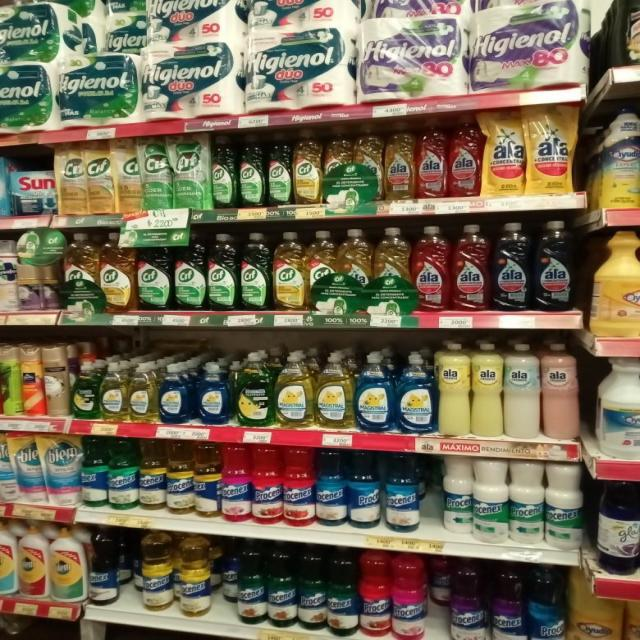ala_conc_amarillo: (373, 226, 411, 316), (384, 120, 416, 201), (354, 121, 383, 202)
ala_conc_azul: (533, 220, 578, 312), (493, 221, 531, 312)
ala_conc_rojo: (452, 223, 490, 312), (414, 225, 449, 313), (448, 112, 482, 198), (417, 116, 447, 199)
ala_crem_amarillo: (438, 342, 470, 436), (472, 342, 502, 438)
ala_crem_blanco: (504, 342, 540, 440)
ala_crem_rosado: (542, 342, 582, 441)
ala_sachet_amarillo: (526, 102, 578, 196), (483, 106, 525, 197)
cif_conc_bot_amarilla: (338, 228, 372, 315), (63, 231, 99, 312), (100, 231, 135, 312), (273, 231, 306, 312), (307, 230, 337, 313), (324, 124, 353, 205), (293, 127, 322, 205), (617, 0, 640, 66)
cif_conc_botella_verde: (137, 231, 172, 311), (174, 230, 207, 312), (240, 232, 271, 312), (208, 232, 238, 311), (238, 133, 266, 208), (211, 134, 238, 209), (267, 132, 292, 206)
cif_conc_sachet_amarillo: (57, 140, 86, 215), (114, 136, 141, 212), (86, 139, 113, 214)
cif_conc_sachet_verde: (173, 133, 209, 210), (142, 135, 172, 210)
magistral_con_amarillo: (275, 350, 314, 428), (316, 350, 353, 430), (129, 361, 157, 423), (101, 359, 128, 421)
magistral_con_azul: (396, 352, 436, 434), (355, 351, 394, 433), (196, 361, 231, 425), (159, 362, 193, 424)
